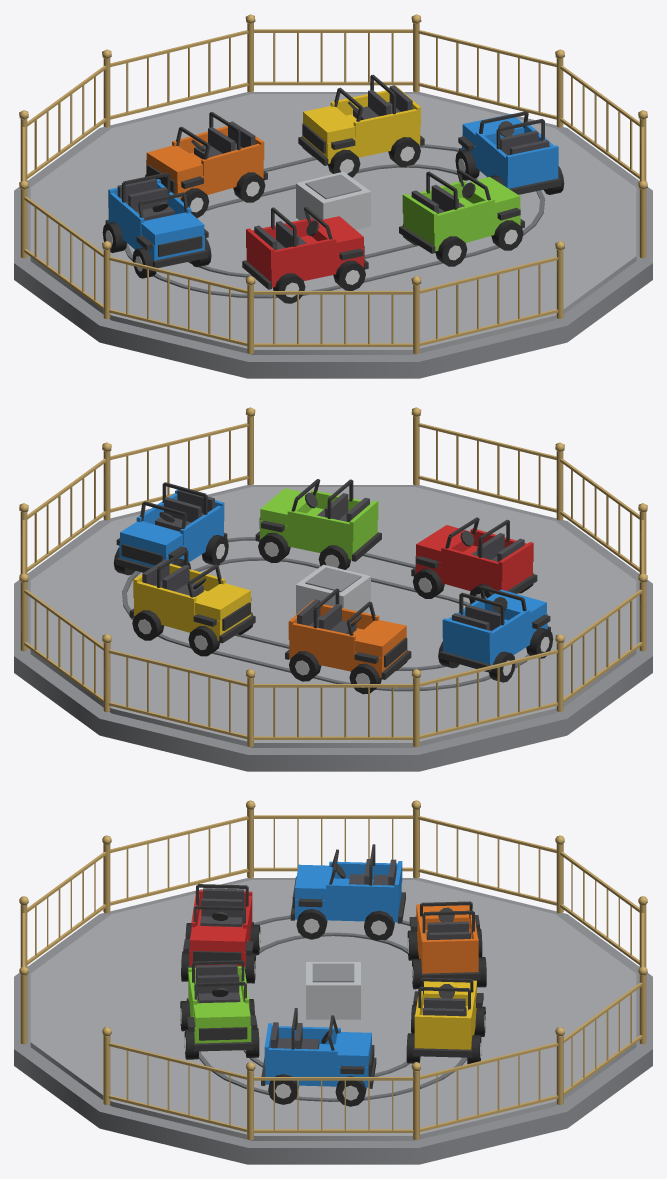
3 views of the same model, one above another, from view 1: azimuth 30°, elevation 25°; view 2: azimuth 150°, elevation 25°; view 3: azimuth 270°, elevation 25° (orthographic).
Parts seen in each view (by area): view 1: base, car4, car0, car1, car2, car3, car5; view 2: base, car4, car3, car0, car1, car2, car5; view 3: base, car2, car5, car0, car4, car3, car1.
Part boxes in pixels (x1,y1,x2,y2): base: [14, 14, 652, 378]; car4: [298, 74, 424, 177]; car0: [399, 169, 524, 266]; car1: [242, 207, 368, 303]; car2: [102, 172, 211, 278]; car3: [145, 112, 267, 218]; car5: [455, 111, 564, 194]; base: [14, 407, 652, 771]; car4: [129, 549, 255, 656]; car3: [285, 588, 411, 694]; car0: [255, 479, 381, 569]; car1: [411, 517, 537, 604]; car2: [438, 586, 553, 682]; car5: [113, 482, 228, 575]; base: [14, 800, 652, 1164]; car2: [290, 844, 405, 941]; car5: [261, 1008, 376, 1106]; car0: [180, 960, 259, 1059]; car4: [406, 977, 485, 1063]; car3: [407, 901, 486, 989]; car1: [181, 884, 260, 983].
Size of the model in its own units: 9.27 by 1.58 by 9.27.
